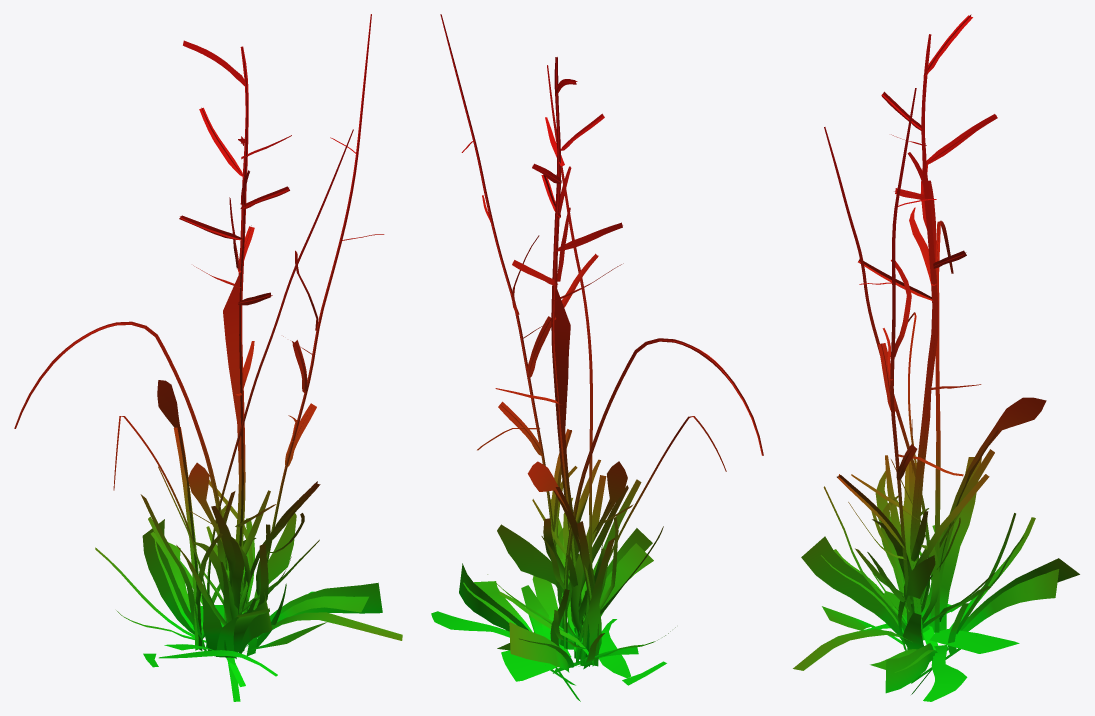
Rendered from tcepfcfr_Var2_LOD0.fbx.
3 views of the same model, side by side, from view 1: azimuth 30°, elevation 25°; view 2: azimuth 150°, elevation 25°; view 3: azimuth 270°, elevation 25° (orthographic). The views are drawn at different scales.
Visible parts, largest first — view 1: _5607_Var2_LOD0; view 2: _5607_Var2_LOD0; view 3: _5607_Var2_LOD0.
Boxes of the visible parts, box(x1,y1,x2,y2) form: _5607_Var2_LOD0: box(14, 14, 402, 701); _5607_Var2_LOD0: box(431, 14, 763, 701); _5607_Var2_LOD0: box(793, 14, 1079, 701).
Bounding box in the file's own units: 41.25 × 75.27 × 29.11.
